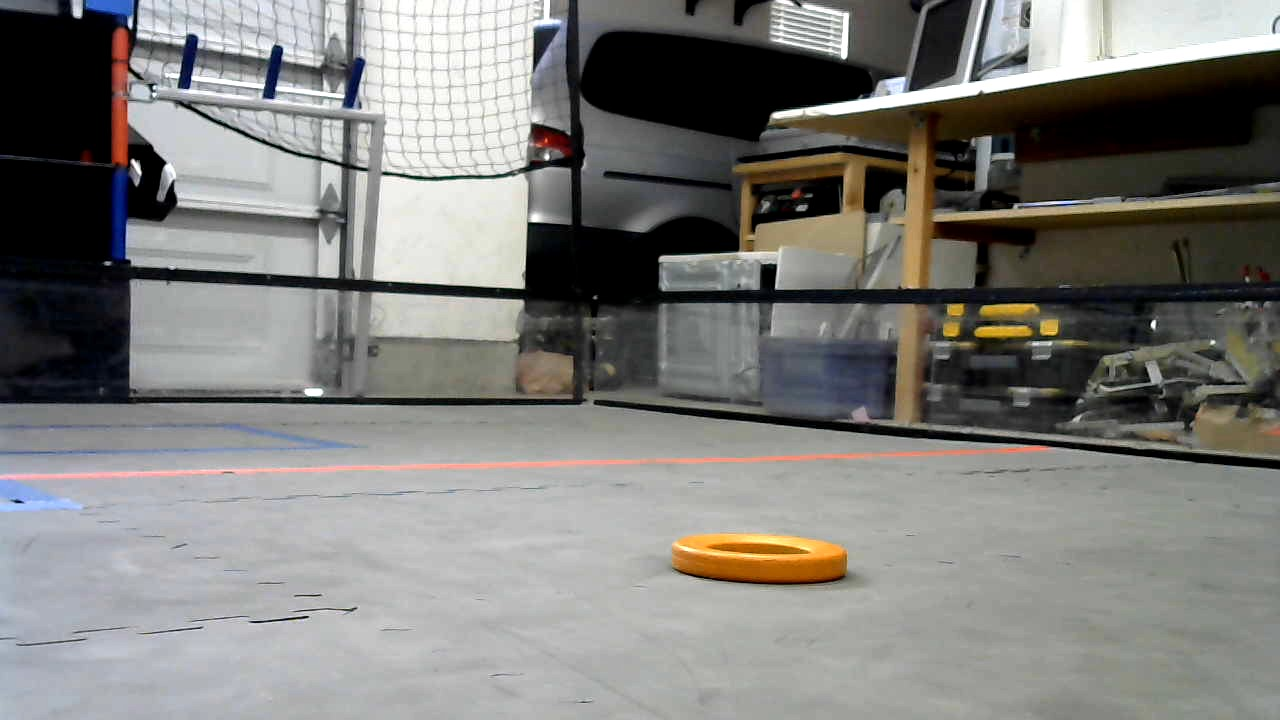OneStack: (673, 531, 847, 584)
